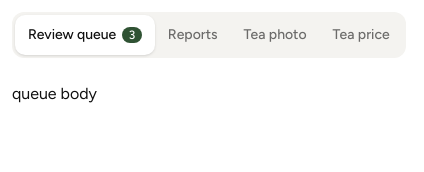
AdminTabs › switches to the form tabs
Click the tab "Tea photo".
click(275, 35)  # box [230, 15, 320, 55]
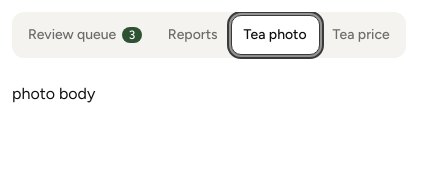
Now the text "photo body" is shown, box [12, 84, 95, 103]
Click the tab "Tea price".
click(361, 35)  # box [320, 15, 403, 55]
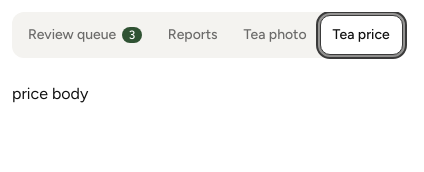
Now the text "price body" is shown, box [12, 84, 88, 103]
Click the tab "Reports".
click(193, 35)  # box [155, 15, 230, 55]
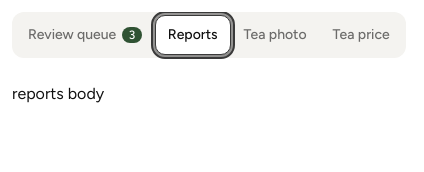
Now the text "reports body" is shown, box [12, 84, 104, 103]
